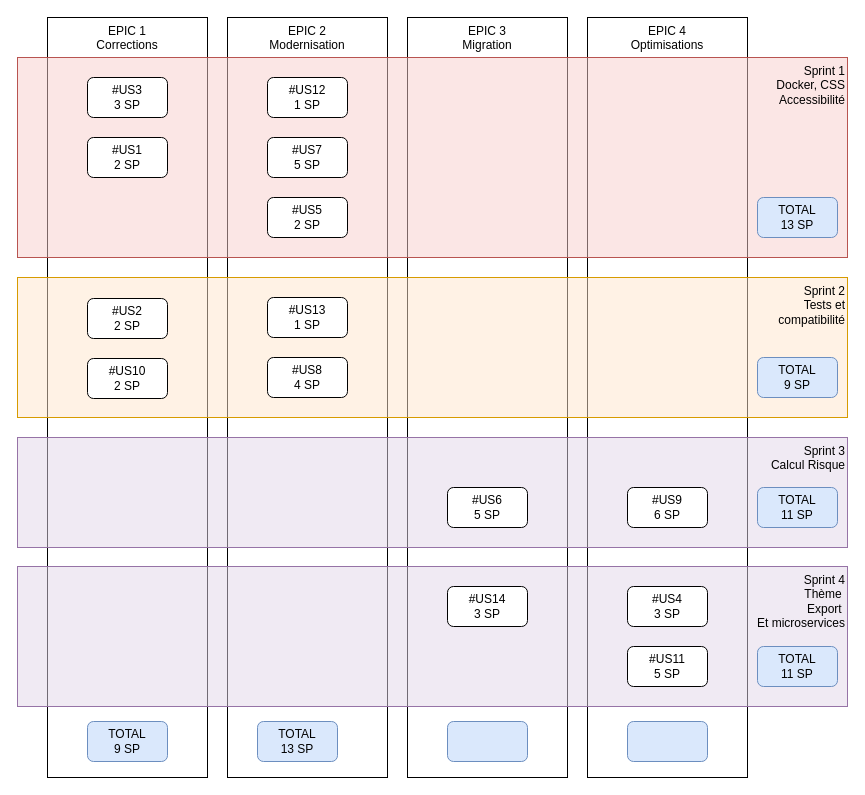
The diagram is 865 pixels wide and 795 high, and some of its shapes have lost their labels. The centre of each missing label's shape, as x and y in pixels:
"TOTAL 14 SP" belongs at (x=667, y=741).
"TOTAL 8 SP" belongs at (x=487, y=741).
